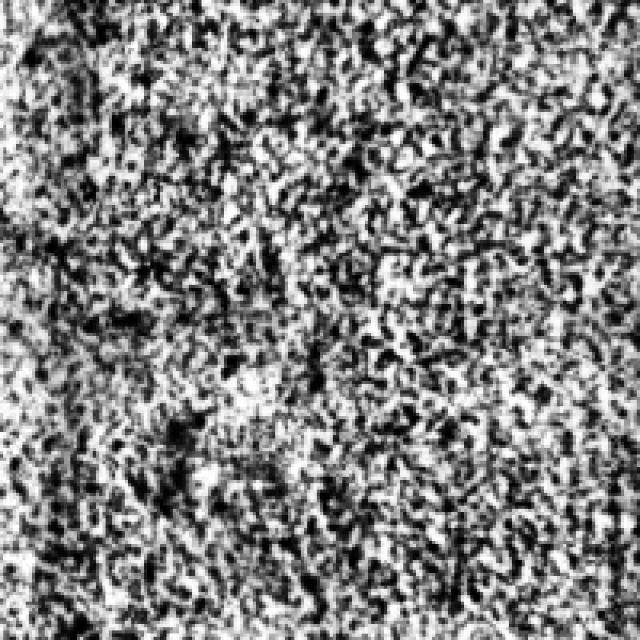Rolled_in_Scale: (10, 26, 628, 634)
